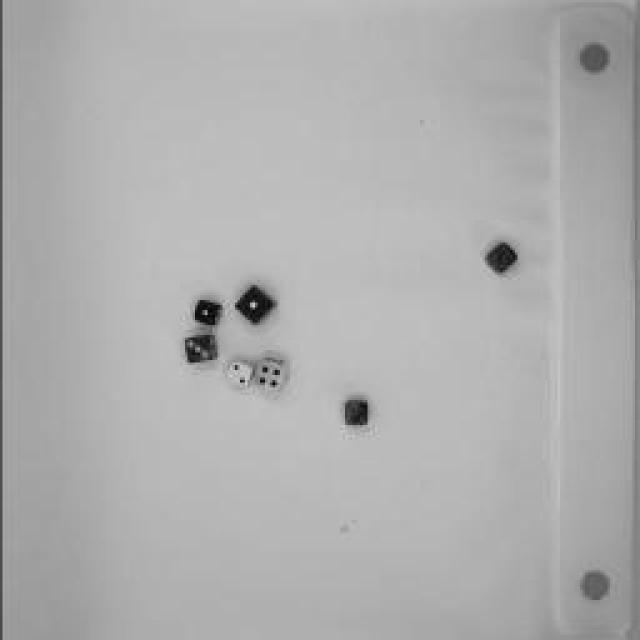dice_1: (228, 282, 284, 336), (188, 292, 222, 328)
dice_2: (480, 238, 522, 282), (224, 360, 256, 390)
dice_3: (181, 330, 219, 370)
dice_4: (249, 354, 296, 394)
dice_5: (338, 398, 374, 430)
